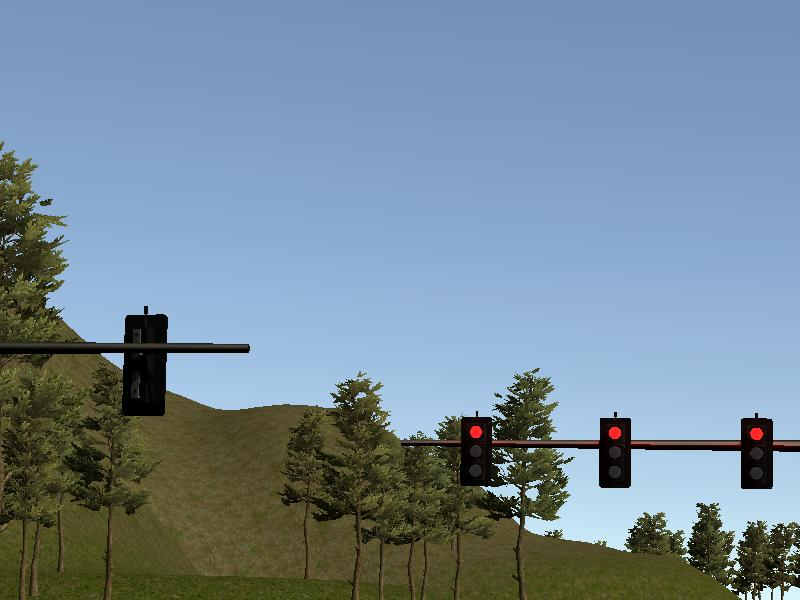Red: (599, 417, 632, 488), (743, 417, 774, 487), (459, 416, 490, 485)
